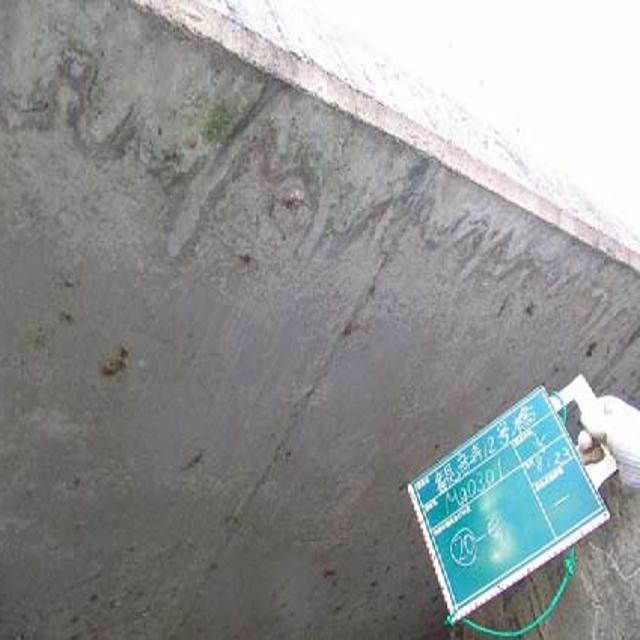leakage: (40, 6, 386, 241), (418, 165, 618, 298)
